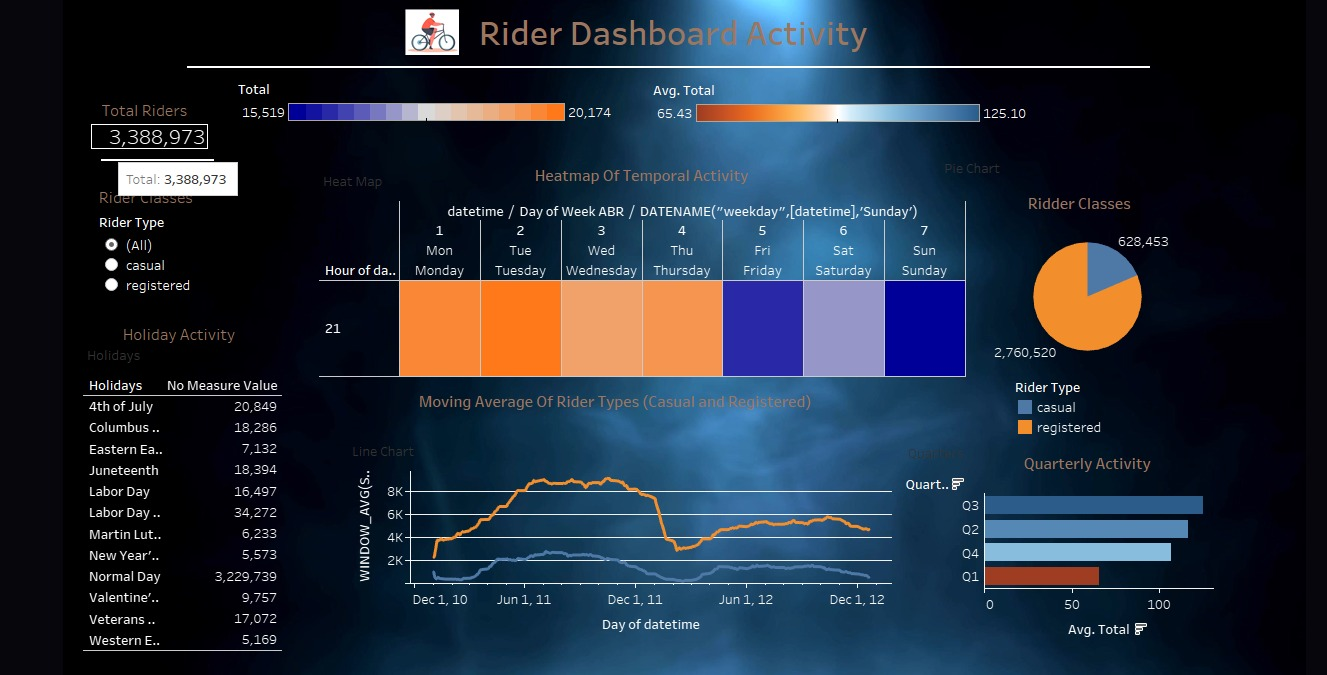

This screenshot's page, from the dashboard's own definition file:
{"tool":"tableau","page":{"name":"Dashboard 1","canvas":[1200,800],"ordinal":0},"visuals":[{"type":"image","param":"Image/Screenshot 2024-02-15 193955.png","box":[339,9,204,46]},{"type":"text","box":[410,11,406,41]},{"type":"blank","box":[121,66,963,2]},{"type":"legend","title":"Heat Map","param":"[federated.03kivkc0dt58yu13ffnl111v00c6].[sum:Pivot Field Values:qk]","box":[172,80,378,74]},{"type":"legend","title":"Quarters","param":"[federated.03kivkc0dt58yu13ffnl111v00c6].[avg:Pivot Field Values:qk]","box":[587,81,378,54]},{"type":"text","box":[33,96,129,29]},{"type":"worksheet","title":"KPI","mark":"Automatic","box":[23,122,379,192]},{"type":"worksheet","title":"Pie Chart","mark":"Pie","box":[874,155,295,250]},{"type":"blank","box":[35,159,113,2]},{"type":"text","box":[466,160,219,30]},{"type":"worksheet","title":"Heat Map","mark":"Automatic","rows":["datetime"],"cols":["datetime","Calculation_646548076864753682","Calculation_646548076843360271"],"box":[253,168,647,209]},{"type":"text","box":[30,182,100,30]},{"type":"text","box":[959,188,109,30]},{"type":"filter","title":"Pie Chart","param":"[federated.03kivkc0dt58yu13ffnl111v00c6].[none:Pivot Field Names:nk]","box":[33,213,160,85]},{"type":"text","box":[54,319,118,30]},{"type":"worksheet","title":"Holidays","mark":"Automatic","rows":["Calculation_646548076487979010"],"box":[17,342,199,309]},{"type":"legend","title":"Line Chart","param":"[federated.03kivkc0dt58yu13ffnl111v00c6].[none:Pivot Field Names:nk]","box":[949,378,164,78]},{"type":"text","box":[350,380,458,42]},{"type":"worksheet","title":"Line Chart","mark":"Line","rows":["Calculation_646548076831752201"],"cols":["datetime"],"box":[282,438,544,202]},{"type":"worksheet","title":"Quarters","mark":"Bar","rows":["datetime"],"cols":["Pivot Field Values"],"box":[838,440,310,205]},{"type":"text","box":[955,448,133,30]}]}

Visuals, with their boxes on the page's 1200x800 design canvas (x1, y1, x2, y2). These are canvas units, not pixel positions in the 1327x675 screenshot, which may show the page scaled, cropped or inside an application window:
image: box(339, 9, 543, 55)
text: box(410, 11, 816, 52)
blank: box(121, 66, 1084, 68)
"Heat Map" legend: box(172, 80, 550, 154)
"Quarters" legend: box(587, 81, 965, 135)
text: box(33, 96, 162, 125)
"KPI" worksheet: box(23, 122, 402, 314)
"Pie Chart" worksheet (Pie marks): box(874, 155, 1169, 405)
blank: box(35, 159, 148, 161)
text: box(466, 160, 685, 190)
"Heat Map" worksheet: box(253, 168, 900, 377)
text: box(30, 182, 130, 212)
text: box(959, 188, 1068, 218)
"Pie Chart" filter: box(33, 213, 193, 298)
text: box(54, 319, 172, 349)
"Holidays" worksheet: box(17, 342, 216, 651)
"Line Chart" legend: box(949, 378, 1113, 456)
text: box(350, 380, 808, 422)
"Line Chart" worksheet (Line marks): box(282, 438, 826, 640)
"Quarters" worksheet (Bar marks): box(838, 440, 1148, 645)
text: box(955, 448, 1088, 478)
